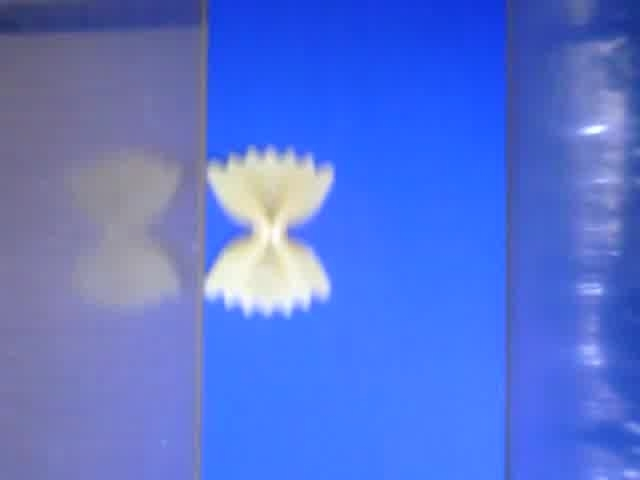farfalle: (203, 145, 334, 318)
